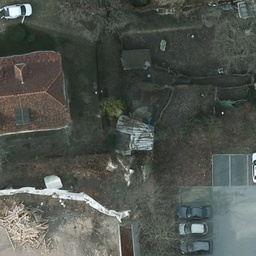car: (1, 1, 32, 21), (179, 240, 212, 255), (179, 221, 208, 238), (176, 204, 211, 218)
